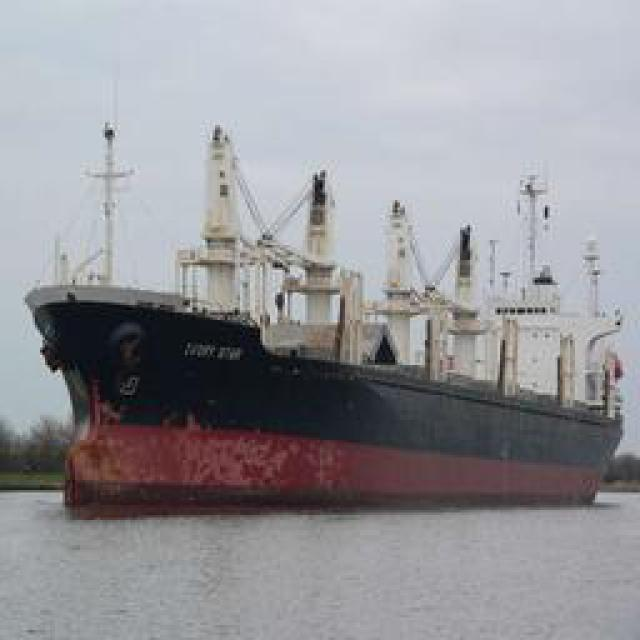Ship: (25, 104, 623, 521)
